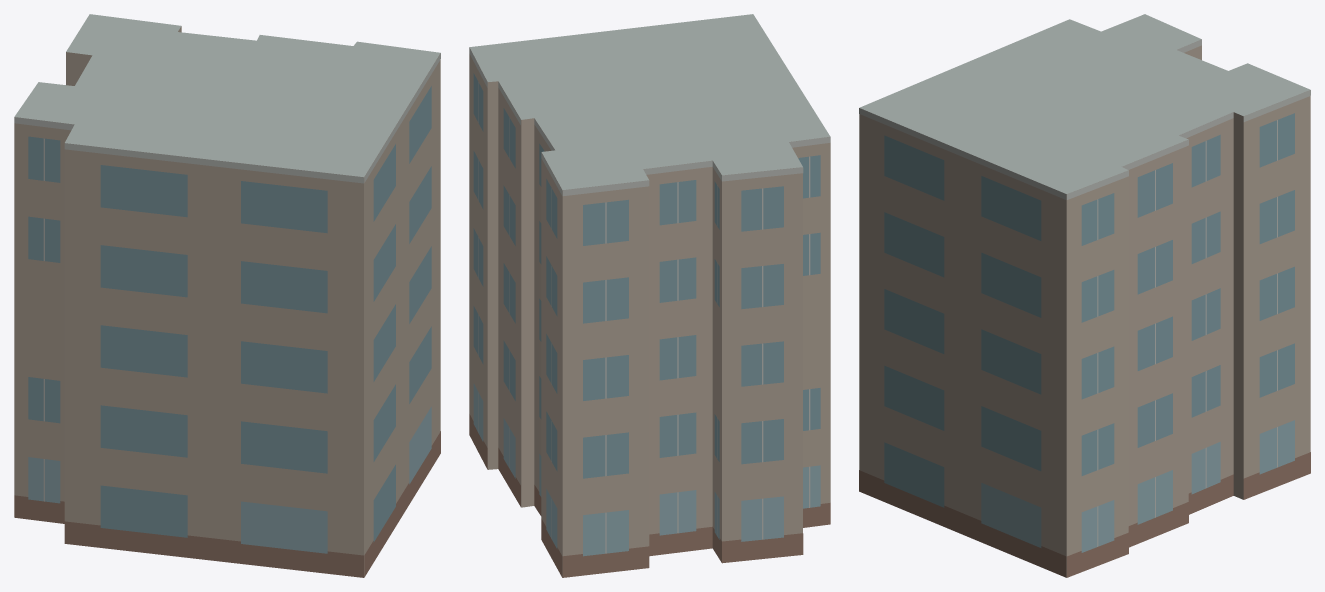
File: survey-upis-32774853.glb
3 views of the same model, side by side, from view 1: azimuth 30°, elevation 25°; view 2: azimuth 150°, elevation 25°; view 3: azimuth 270°, elevation 25° (orthographic). The views are drawn at different scales.
Parts seen in each view (by area): view 1: survey-upis-32774853.tmp; view 2: survey-upis-32774853.tmp; view 3: survey-upis-32774853.tmp.
Part boxes in pixels (box(x1,y1,x2,y2)): survey-upis-32774853.tmp: box(14, 14, 440, 577); survey-upis-32774853.tmp: box(469, 14, 830, 577); survey-upis-32774853.tmp: box(859, 14, 1310, 577).
Bounding box in the file's own units: 15.62 × 15.5 × 16.54.
